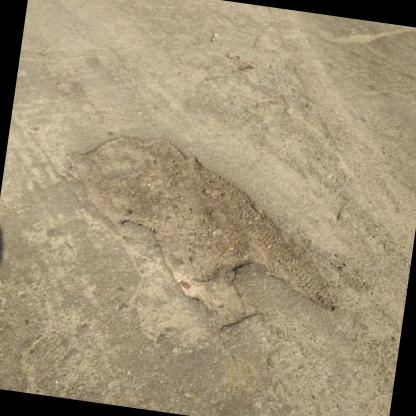pothole: (42, 119, 361, 348)
